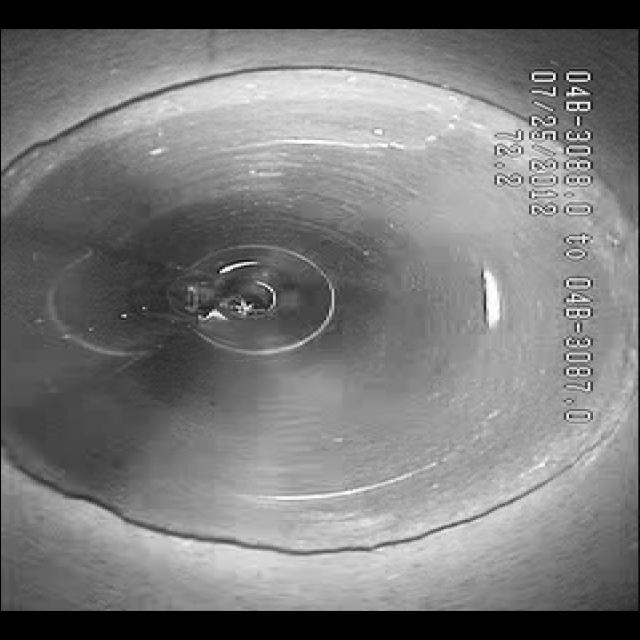Crack: (247, 95, 478, 172)
